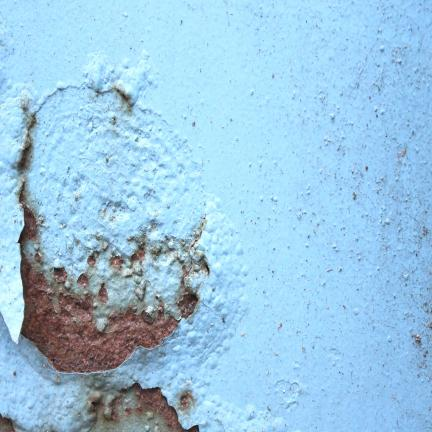karat: (20, 251, 179, 383)
